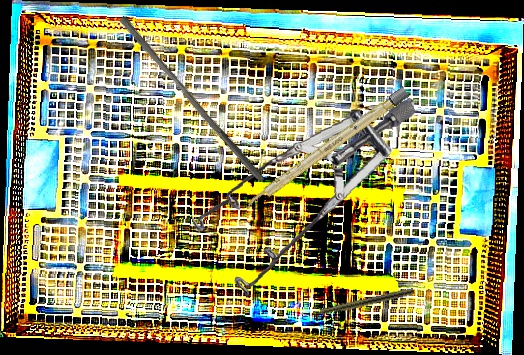Handpiece: (299, 286, 415, 321)
Pusher: (112, 14, 273, 184)
Scalpel Handle: (243, 86, 410, 212)
Speculum: (183, 97, 430, 302)
